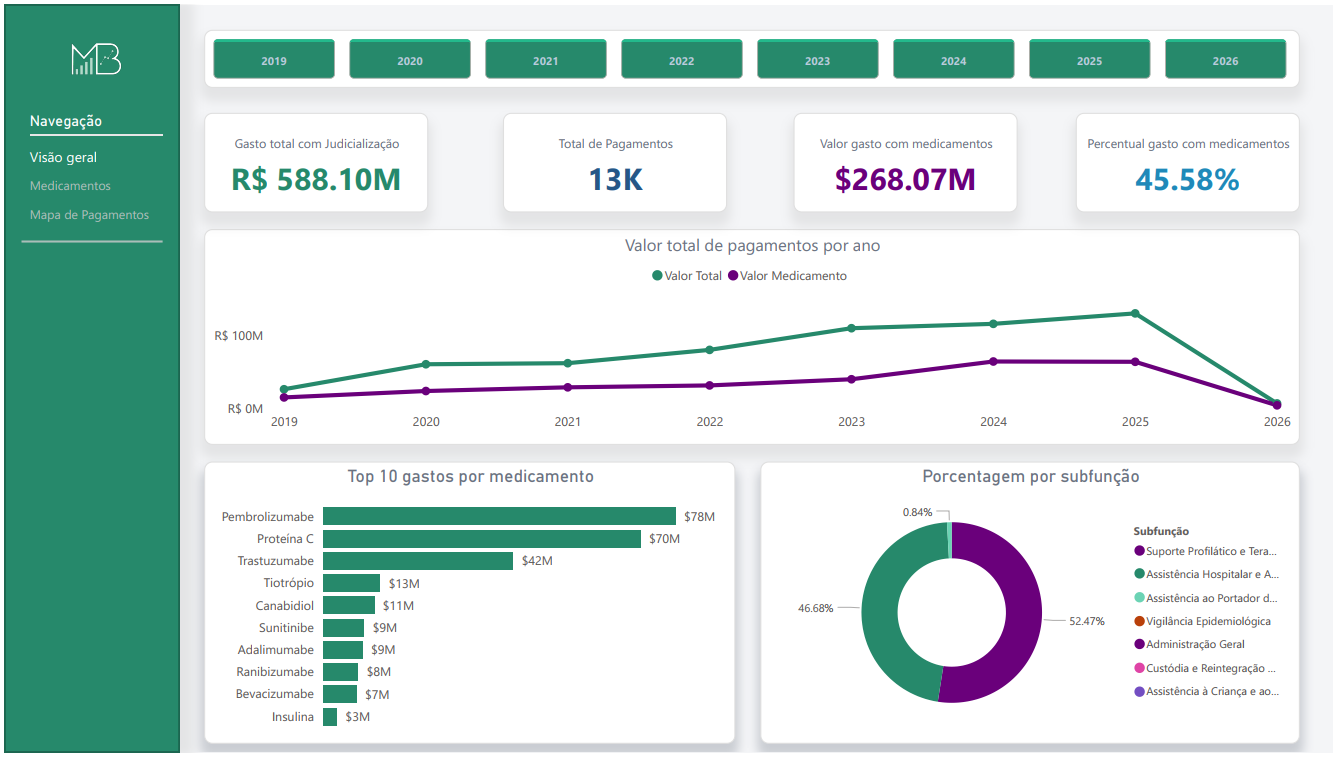

Layout of this report page (visuals, bound fields, positions):
{"tool":"powerbi","page":{"name":"Visão geral","canvas":[1280,720],"ordinal":0},"visuals":[{"type":"shape","box":[0,0,168,720],"z":0},{"type":"card","title":"Gasto total com Judicialização","fields":{"Values":["judicializacao.Valor Total"]},"box":[192,104,216,96],"z":0,"group":"g1"},{"type":"card","title":"Total de Pagamentos","fields":{"Values":["judicializacao.Qtd Pagamentos"]},"box":[480,104,216,96],"z":1000,"group":"g1"},{"type":"lineChart","title":"Valor total de pagamentos por ano","fields":{"Category":["Calendario.Ano"],"Y":["judicializacao.Valor Total","Visão Judicialização.Valor Medicamento"]},"box":[192,216,1056,208],"z":1000},{"type":"card","title":"Valor gasto com medicamentos","fields":{"Values":["judicializacao.Valor Medicamentos"]},"box":[760,104,216,96],"z":2000,"group":"g1"},{"type":"clusteredBarChart","title":"Top 10 gastos por medicamento","fields":{"Category":["Lista de Medicamentos.substancia_ativa"],"Y":["Visão Judicialização.Valor Medicamento"]},"box":[192,440,512,272],"z":2000},{"type":"card","title":"Percentual gasto com medicamentos","fields":{"Values":["judicializacao.Perc Medicamentos"]},"box":[1032,104,216,96],"z":3000,"group":"g1"},{"type":"donutChart","title":"Porcentagem por subfunção","fields":{"Category":["Visão Judicialização.subfuncao"],"Y":["Visão Judicialização.Valor Total"]},"box":[728,440,520,272],"z":3000},{"type":"advancedSlicerVisual","fields":{"Values":["Visão Judicialização.ano_pagamento"]},"box":[192,24,1056,56],"z":4000},{"type":"group","id":"g1","title":"Group 1","box":[192,104,1056,96],"z":5000},{"type":"pageNavigator","title":"Navegação","box":[24,104,128,112],"z":6000},{"type":"image","box":[64,24,48,56],"z":7000},{"type":"shape","box":[16,216,136,24],"z":8000}]}

Visuals, with their boxes in screenshot pixels (x1, y1, x2, y2), scaled from the page's 1280x720 canvas onto the 1339x757 screenshot:
shape: pyautogui.locateOnScreen(0, 0, 176, 756)
"Gasto total com Judicialização" card: pyautogui.locateOnScreen(201, 109, 427, 210)
"Total de Pagamentos" card: pyautogui.locateOnScreen(502, 109, 728, 210)
"Valor total de pagamentos por ano" lineChart: pyautogui.locateOnScreen(201, 227, 1306, 446)
"Valor gasto com medicamentos" card: pyautogui.locateOnScreen(795, 109, 1021, 210)
"Top 10 gastos por medicamento" clusteredBarChart: pyautogui.locateOnScreen(201, 463, 736, 749)
"Percentual gasto com medicamentos" card: pyautogui.locateOnScreen(1080, 109, 1306, 210)
"Porcentagem por subfunção" donutChart: pyautogui.locateOnScreen(762, 463, 1306, 749)
advancedSlicerVisual - Visão Judicialização.ano_pagamento: pyautogui.locateOnScreen(201, 25, 1306, 84)
"Group 1" group: pyautogui.locateOnScreen(201, 109, 1306, 210)
"Navegação" pageNavigator: pyautogui.locateOnScreen(25, 109, 159, 227)
image: pyautogui.locateOnScreen(67, 25, 117, 84)
shape: pyautogui.locateOnScreen(17, 227, 159, 252)
